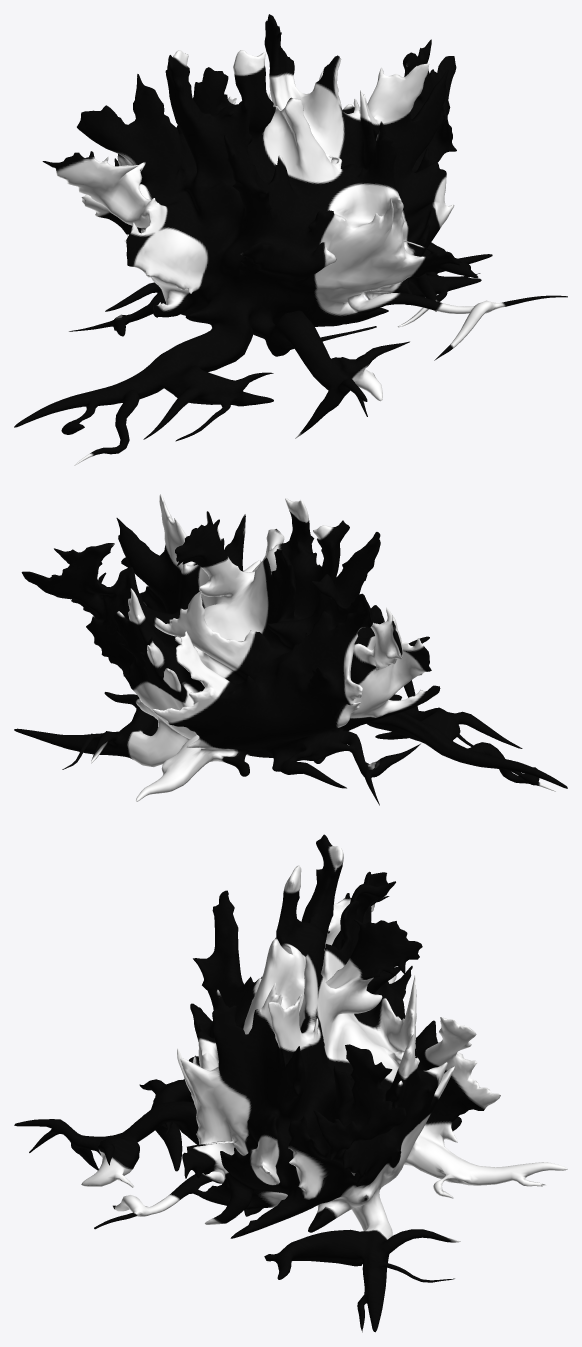
Rendered from buisson1_UV.fbx.
3 renders of one model, top to bottom at view 1: azimuth 30°, elevation 25°; view 2: azimuth 150°, elevation 25°; view 3: azimuth 270°, elevation 25°, orthographic. The views are drawn at different scales.
Parts seen in each view (by area): view 1: buisson1; view 2: buisson1; view 3: buisson1.
Boxes of the visible parts, x1,y1,x2,y2 form: buisson1: [14, 14, 567, 465]; buisson1: [14, 494, 567, 805]; buisson1: [14, 834, 567, 1332].
Bounding box in the file's own units: 74.79 × 41.16 × 61.72.
